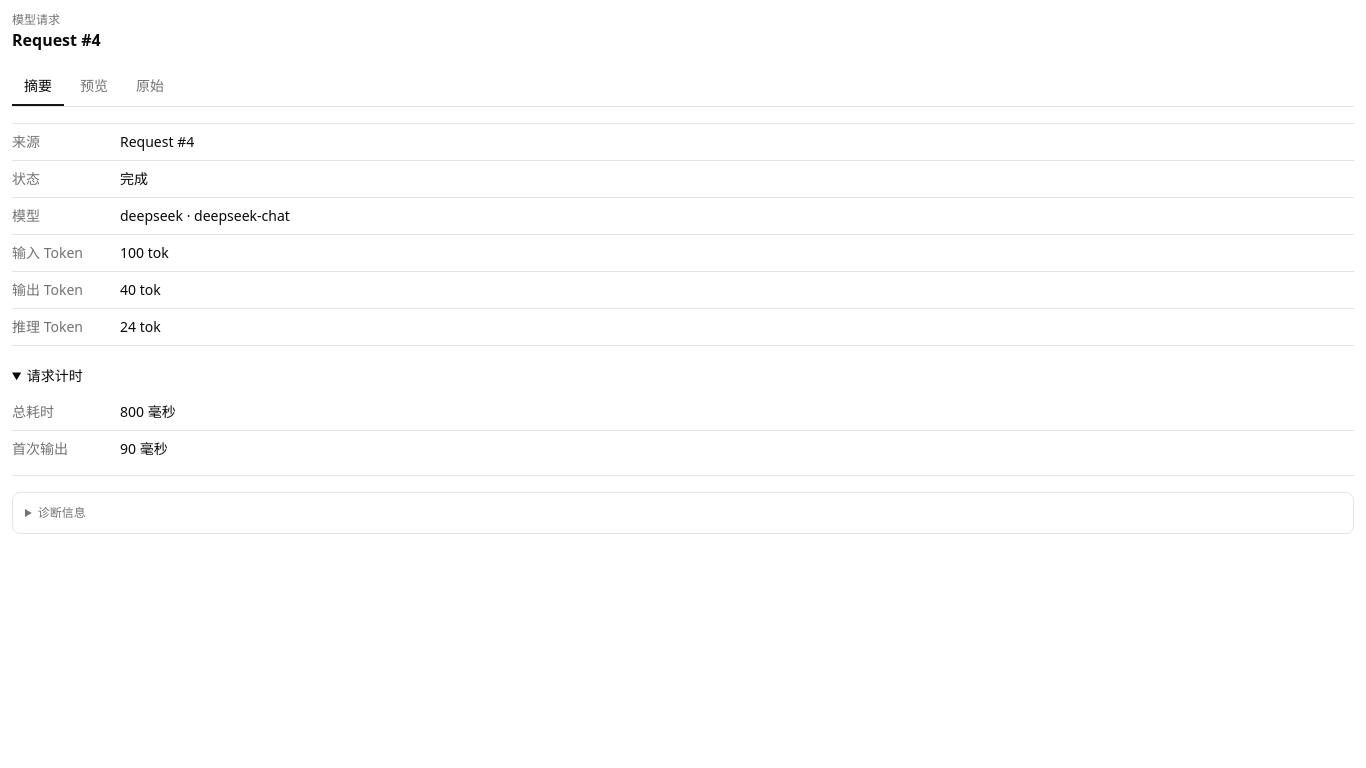
TrajectoryNodeDetailPanel › LLM Request 用 Preview 组合思考与输出，Raw 复用同一份安全详情
Expected: the heading "Request #4" is shown, [12,29,101,51]
Expected: the tab "思考" is not shown
Click the tab "预览" at x=94, y=87, box [68,68,120,106]
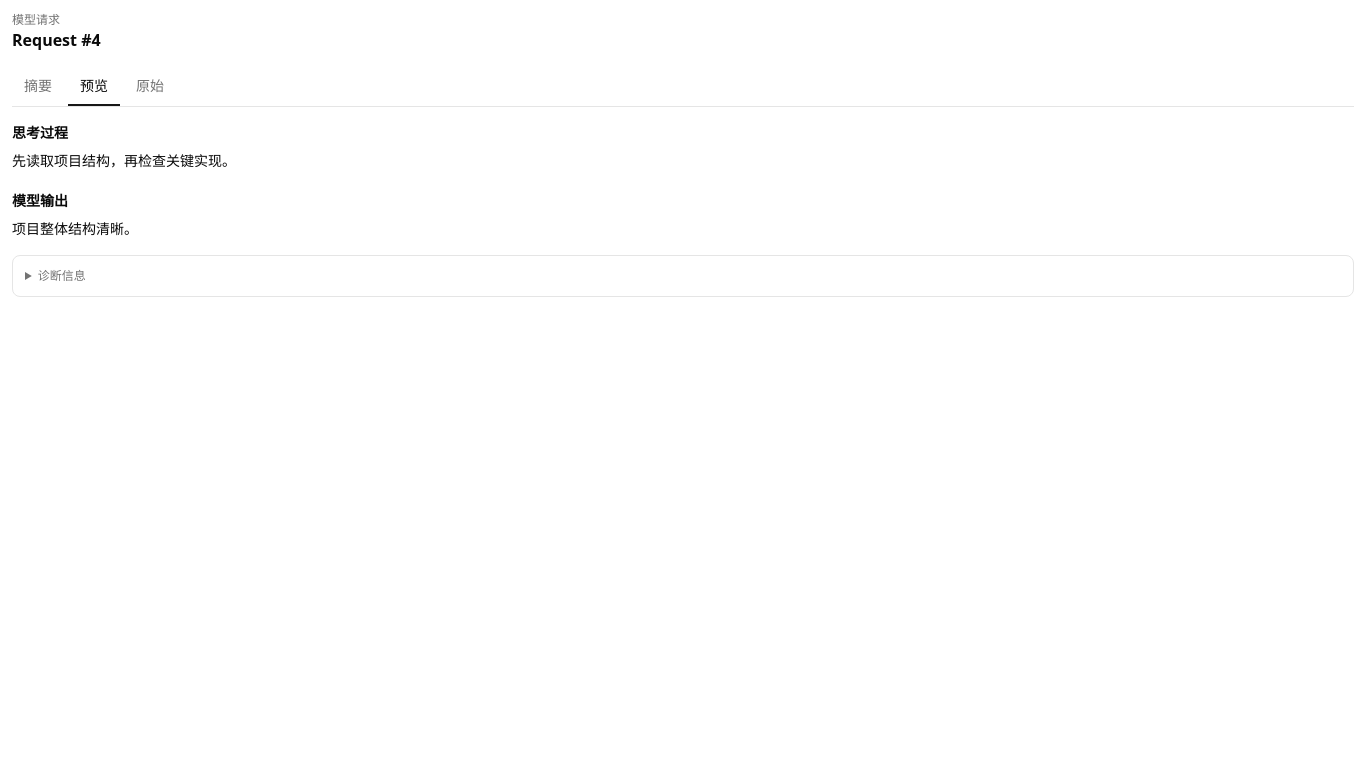
Expected: the heading "思考过程" is shown, [12,123,68,142]
Expected: the text "先读取项目结构，再检查关键实现。" is shown, [12,151,236,170]
Expected: the heading "模型输出" is shown, [12,191,68,210]
Click the tab "原始" at x=150, y=87, box [124,68,176,106]
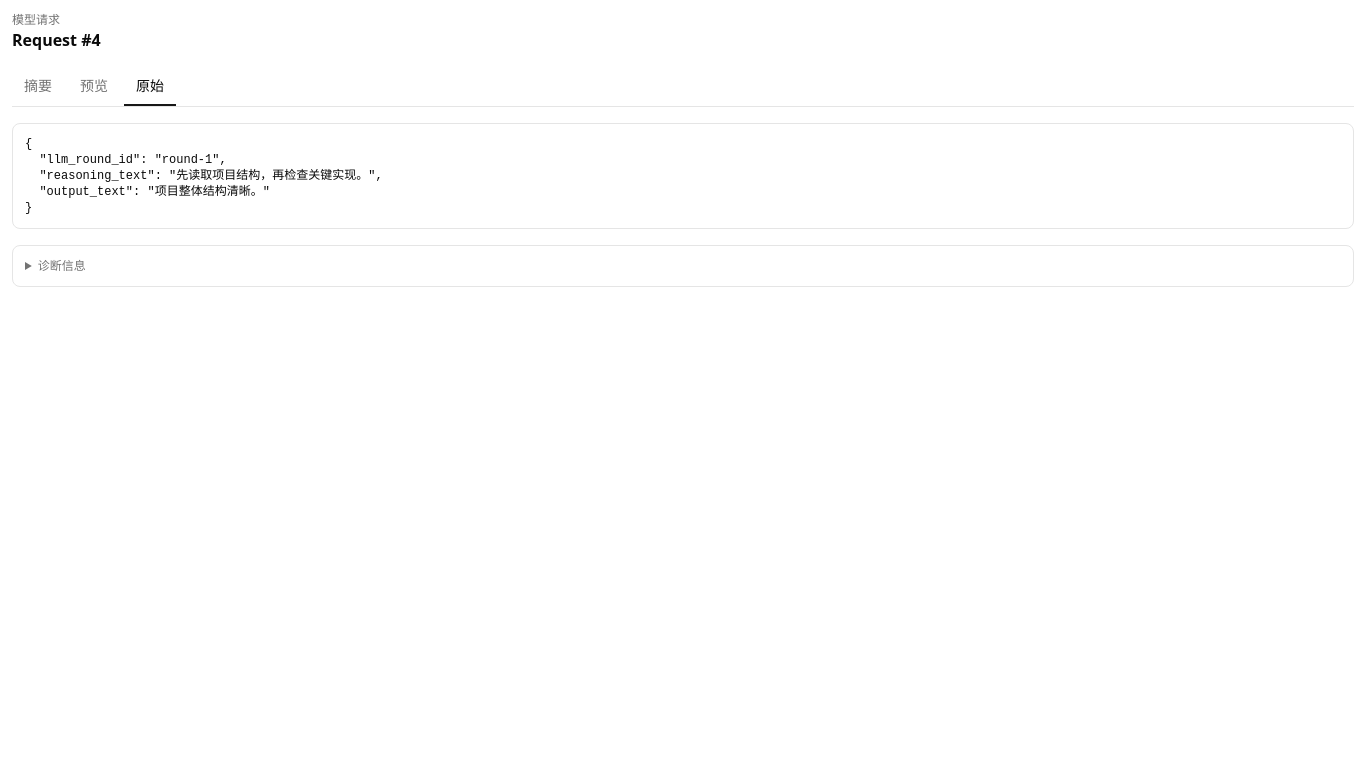
Expected: the panel named "原始" shows "\"llm_round_id\": \"round-1\"", [25,137,383,215]
Expected: the panel named "原始" shows "\"reasoning_text\": \"先读取项目结构，再检查关键实现。\"", [25,137,383,215]
Expected: the panel named "原始" shows "\"output_text\": \"项目整体结构清晰。\"", [25,137,383,215]
